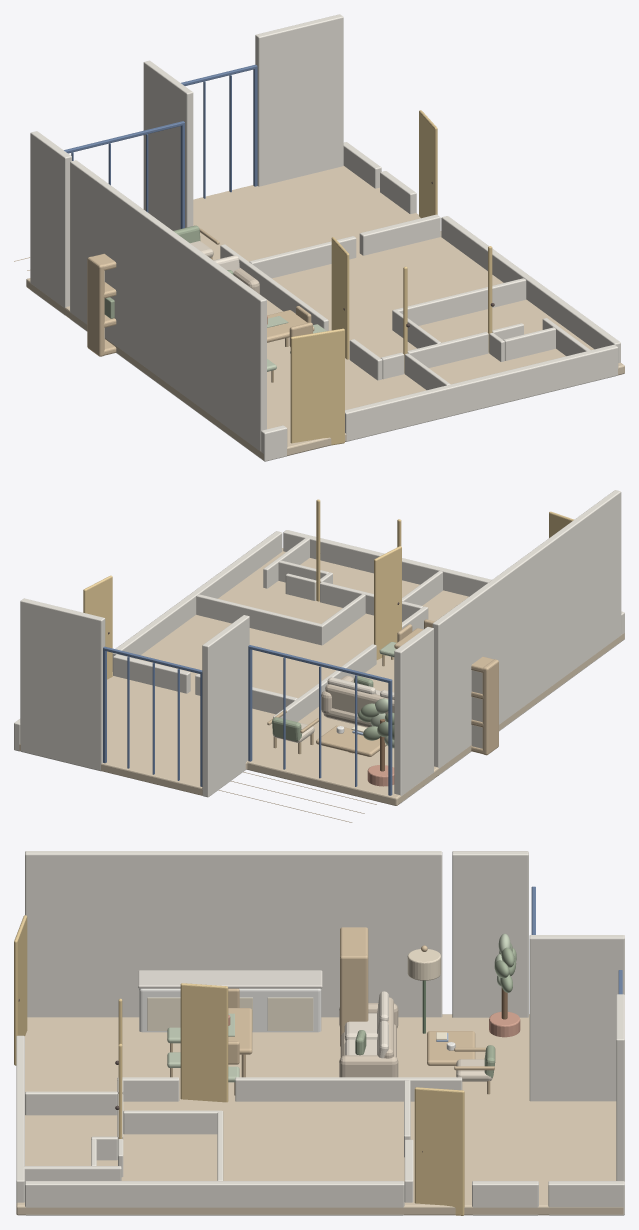
The model's file is bh7-a6-watercolor-v2.glb.
The picture shows the model from 3 angles, top to bottom: view 1: azimuth 30°, elevation 25°; view 2: azimuth 150°, elevation 25°; view 3: azimuth 270°, elevation 25°; orthographic projection. The views are drawn at different scales.
Parts seen in each view (by area): view 1: HP_ARCH__A6_Floor, HP_ARCH__outer-left-lower, HP_ARCH__outer-multi-top-right, HP_ARCH__outer-bottom-main, HP_ARCH__outer-multi-left, HP_ARCH__outer-left-upper, HP_OPENING__entry-door__Door, HP_ARCH__outer-right-lower, HP_ARCH__partition-master-bath, HP_ARCH__partition-multi-master-left, HP_ARCH__partition-multi-master-right, HP_OPENING__multi-side-door__Door (+13 smaller); view 2: HP_ARCH__A6_Floor, HP_ARCH__outer-left-lower, HP_ARCH__outer-multi-top-right, HP_ARCH__outer-multi-left, HP_ARCH__outer-left-upper, HP_ARCH__outer-right-lower, HP_ARCH__outer-bottom-main, HP_ARCH__partition-master-bath, HP_OPENING__master-entry-door__Door, HP_ARCH__partition-multi-master-right, HP_ARCH__partition-spine-upper, HP_SHELF__Side (+17 smaller); view 3: HP_ARCH__A6_Floor, HP_ARCH__outer-left-lower, HP_ARCH__outer-multi-left, HP_ARCH__outer-left-upper, HP_ARCH__outer-right-lower, HP_OPENING__multi-side-door__Door, HP_OPENING__master-entry-door__Door, HP_ARCH__partition-spine-upper, HP_KITCHEN__Counter, HP_KITCHEN__Base, HP_ARCH__partition-hall-bath, HP_ARCH__partition-bath-left (+20 smaller).
Boxes of the visible parts, bbox=[...] form: HP_ARCH__A6_Floor: bbox=[26, 166, 624, 460]; HP_ARCH__outer-left-lower: bbox=[70, 160, 266, 458]; HP_ARCH__outer-multi-top-right: bbox=[255, 14, 343, 186]; HP_ARCH__outer-bottom-main: bbox=[345, 344, 618, 441]; HP_ARCH__outer-multi-left: bbox=[143, 60, 193, 230]; HP_ARCH__outer-left-upper: bbox=[30, 131, 71, 315]; HP_OPENING__entry-door__Door: bbox=[290, 328, 344, 445]; HP_ARCH__outer-right-lower: bbox=[441, 216, 620, 362]; HP_ARCH__partition-master-bath: bbox=[392, 278, 526, 330]; HP_ARCH__partition-multi-master-left: bbox=[249, 236, 356, 278]; HP_ARCH__partition-multi-master-right: bbox=[359, 214, 440, 255]; HP_OPENING__multi-side-door__Door: bbox=[419, 110, 437, 218]; HP_ARCH__A6_Floor: bbox=[19, 548, 624, 805]; HP_ARCH__outer-left-lower: bbox=[432, 490, 621, 774]; HP_ARCH__outer-multi-top-right: bbox=[20, 598, 105, 771]; HP_ARCH__outer-multi-left: bbox=[202, 615, 249, 797]; HP_ARCH__outer-left-upper: bbox=[394, 627, 433, 802]; HP_ARCH__outer-right-lower: bbox=[112, 531, 282, 671]; HP_ARCH__outer-bottom-main: bbox=[283, 530, 491, 596]; HP_ARCH__partition-master-bath: bbox=[196, 594, 324, 645]; HP_OPENING__master-entry-door__Door: bbox=[374, 546, 401, 659]; HP_ARCH__partition-multi-master-right: bbox=[113, 654, 190, 693]; HP_ARCH__partition-spine-upper: bbox=[273, 644, 376, 721]; HP_SHELF__Side: bbox=[482, 659, 498, 755]; HP_ARCH__A6_Floor: bbox=[16, 1014, 623, 1215]; HP_ARCH__outer-left-lower: bbox=[25, 851, 442, 1017]; HP_ARCH__outer-multi-left: bbox=[529, 935, 624, 1101]; HP_ARCH__outer-left-upper: bbox=[452, 851, 528, 1017]; HP_ARCH__outer-right-lower: bbox=[25, 1181, 404, 1215]; HP_OPENING__multi-side-door__Door: bbox=[414, 1087, 464, 1215]; HP_OPENING__master-entry-door__Door: bbox=[180, 983, 228, 1102]; HP_ARCH__partition-spine-upper: bbox=[235, 1077, 462, 1101]; HP_KITCHEN__Counter: bbox=[138, 970, 322, 988]; HP_KITCHEN__Base: bbox=[139, 988, 321, 1032]; HP_ARCH__partition-hall-bath: bbox=[123, 1110, 223, 1134]; HP_ARCH__partition-bath-left: bbox=[25, 1091, 117, 1115].
Size of the model in its own units: 7.14 by 2.85 by 9.13.
